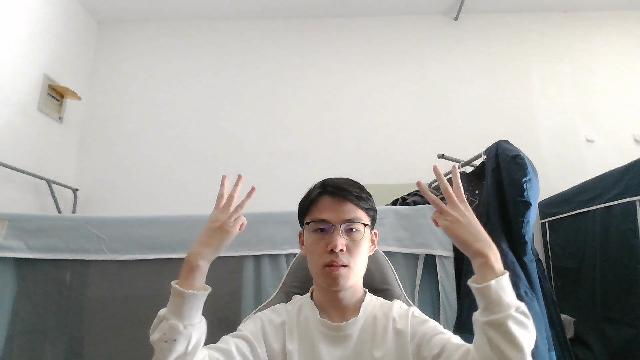three: (412, 162, 491, 257), (190, 168, 257, 260)
